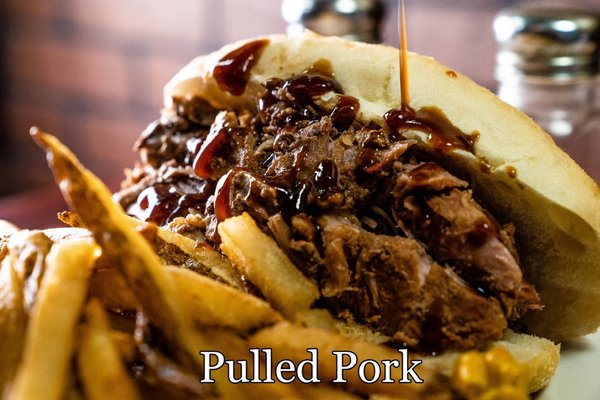pasta: (30, 127, 281, 386)
soup: (89, 29, 577, 362)
